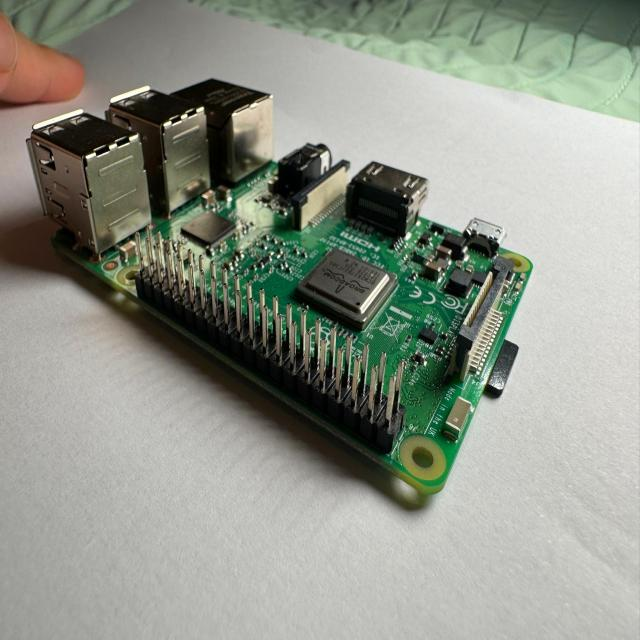CPU: (292, 249, 398, 332)
Ethernet: (181, 76, 277, 193)
GPIO: (133, 224, 409, 455)
HDMI: (343, 160, 430, 245)
RAM-3: (180, 209, 239, 250)
Raspberry: (27, 78, 534, 509)
